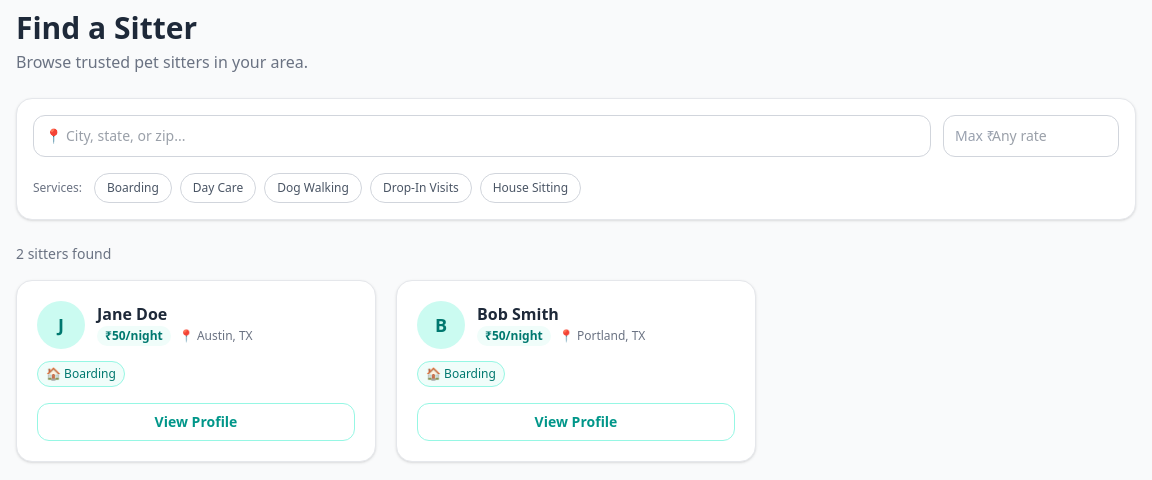
it: SearchPage › city filter narrows results by case-insensitive partial match
Check: the text "2 sitters found" is shown, box [16,244,111,263]
Type "austin" into the field with placeholder "City, state, or zip...". click: (482, 136)
box: [33,115,931,157]
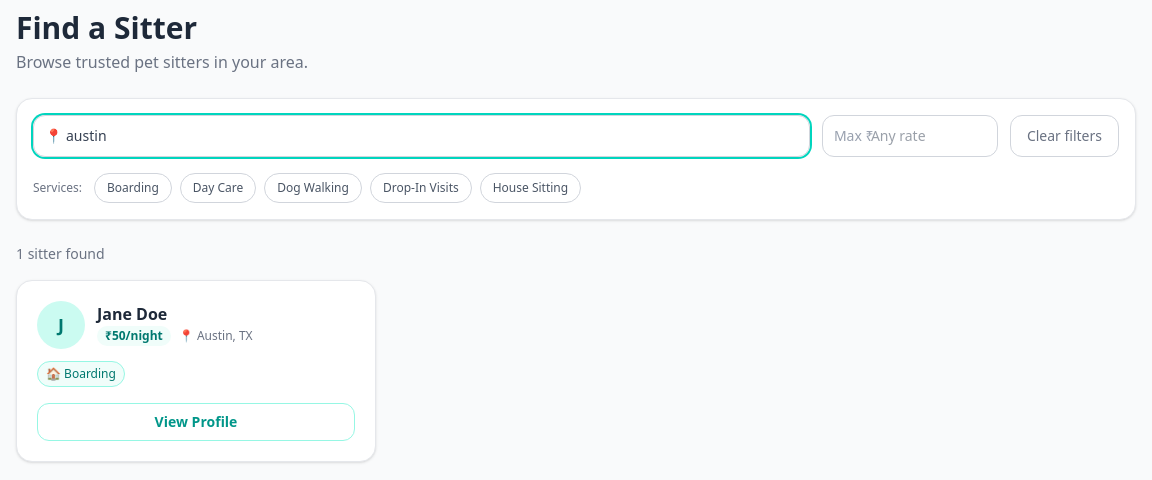
Check: the text "Jane Doe" is shown, box [97,303,167,325]
Check: the text "1 sitter found" is shown, box [16,244,105,263]
Check: the text "Bob Smith" is gone
